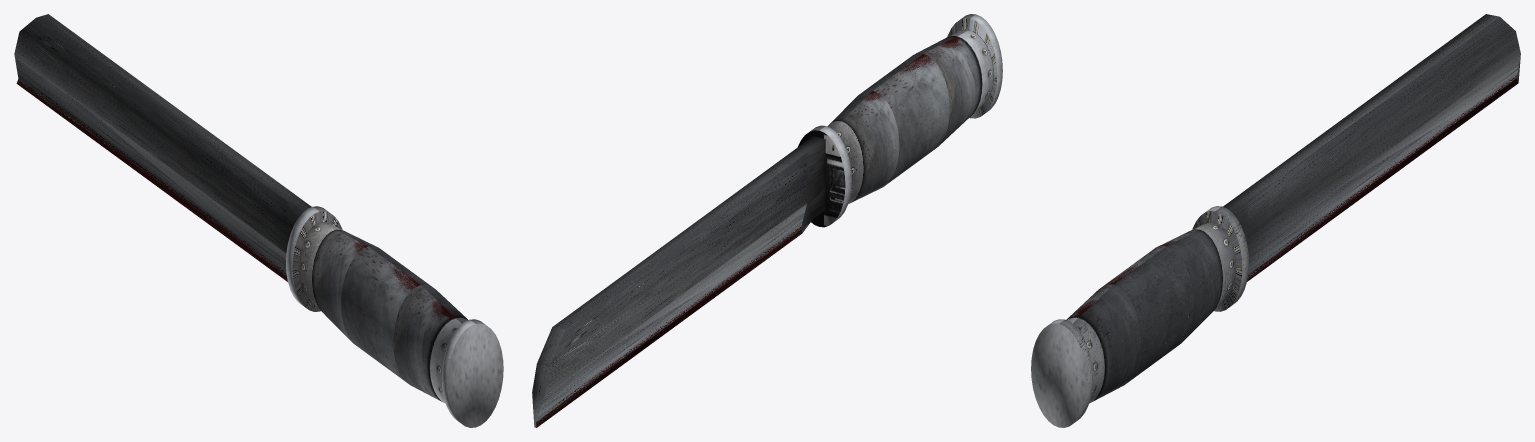
Rendered from knife.obj.
3 renders of one model, left to right at view 1: azimuth 30°, elevation 25°; view 2: azimuth 150°, elevation 25°; view 3: azimuth 330°, elevation 25°, orthographic. The views are drawn at different scales.
Parts seen in each view (by area): view 1: Cylinder; view 2: Cylinder; view 3: Cylinder.
Part boxes in pixels (x1,y1,x2,y2): Cylinder: (14, 14, 503, 427); Cylinder: (532, 14, 1002, 427); Cylinder: (1031, 14, 1520, 427).
Bounding box in the file's own units: 1.23 × 2.17 × 17.36.
